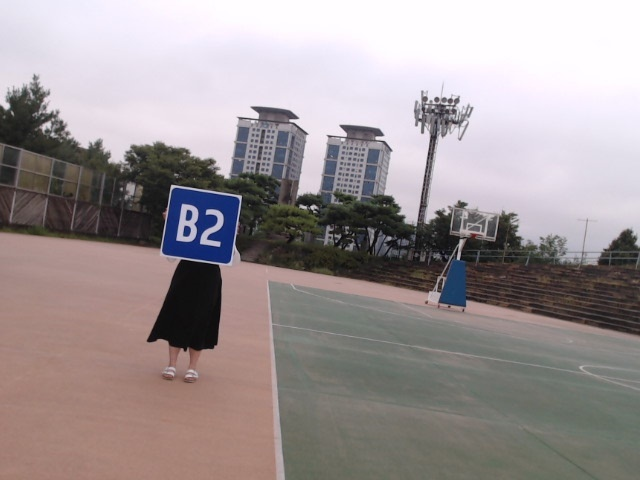delivery_b2: (161, 187, 240, 266)
